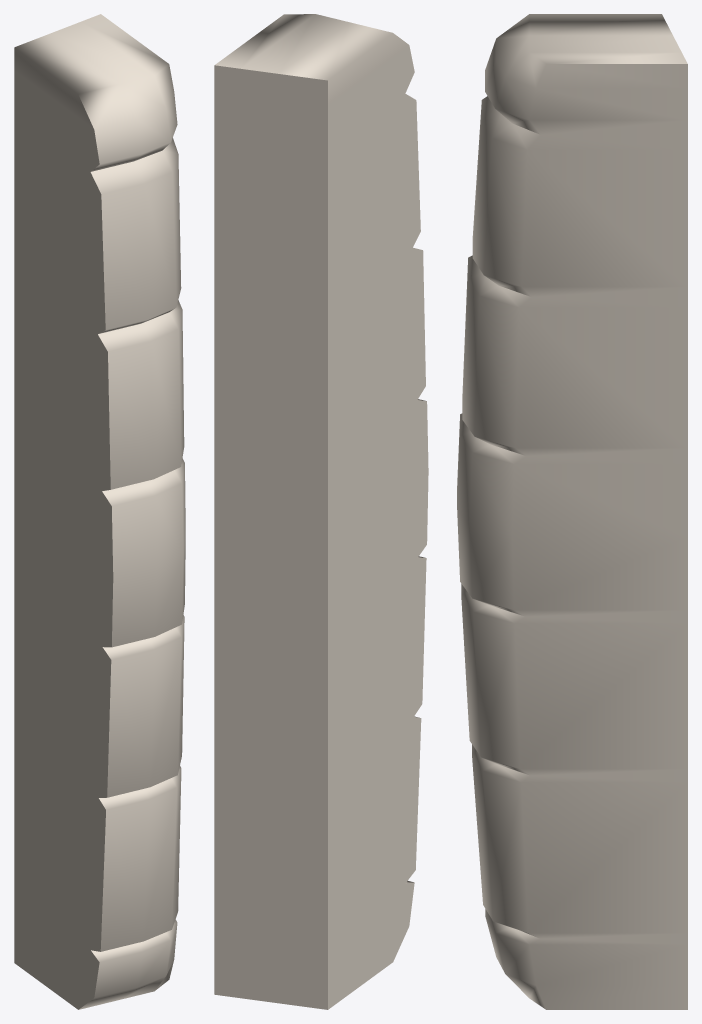
File: nut-LP.dae
The picture shows the model from 3 angles, left to right: view 1: azimuth 30°, elevation 25°; view 2: azimuth 150°, elevation 25°; view 3: azimuth 270°, elevation 25°; orthographic projection. The views are drawn at different scales.
Visible parts, largest first — view 1: Cube_002; view 2: Cube_002; view 3: Cube_002.
Boxes of the visible parts, <box> form: Cube_002: <box>14,14,185,1009</box>; Cube_002: <box>214,14,428,1009</box>; Cube_002: <box>457,14,687,1009</box>.
Size of the model in its own units: 0.48 by 0.9352 by 4.23.
